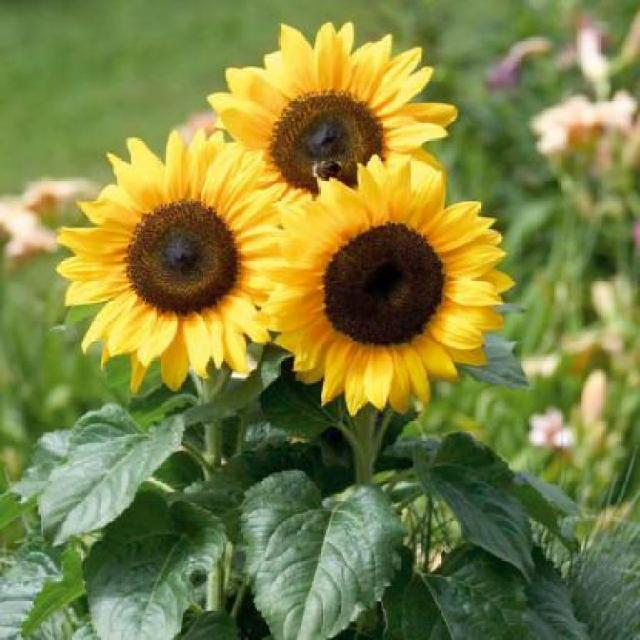sunflower: (257, 136, 511, 404), (62, 125, 286, 390), (225, 4, 446, 208)
